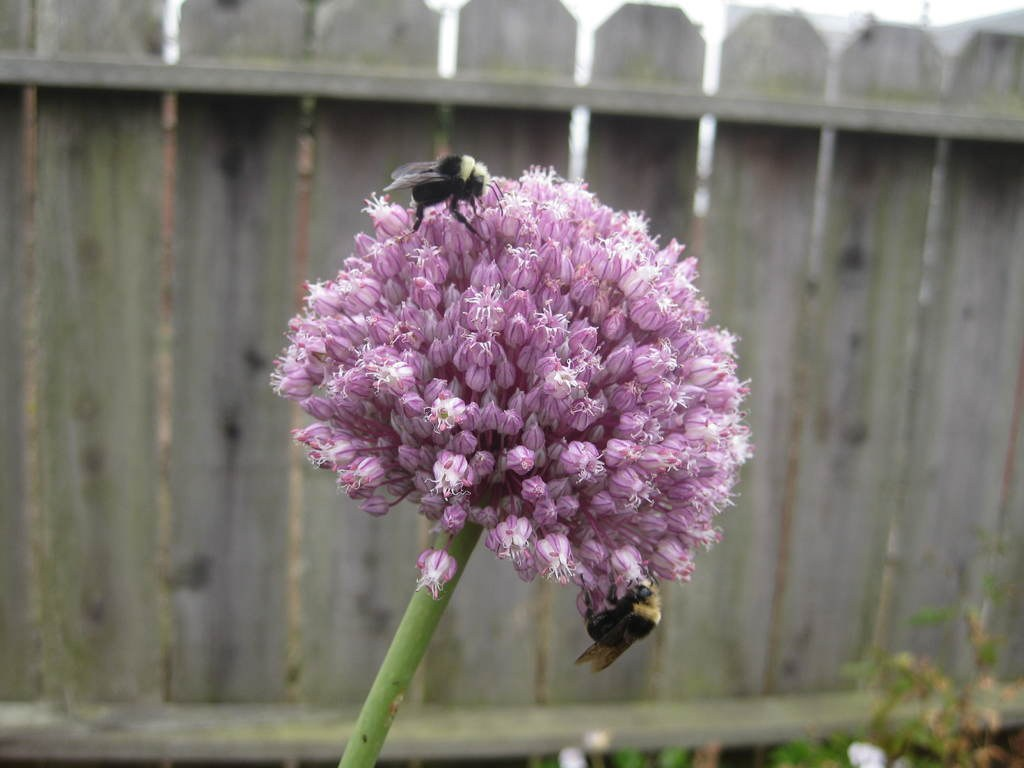bee: (555, 566, 660, 683), (370, 152, 490, 232)
insect: (255, 164, 748, 615), (558, 728, 612, 763), (849, 742, 886, 767)
